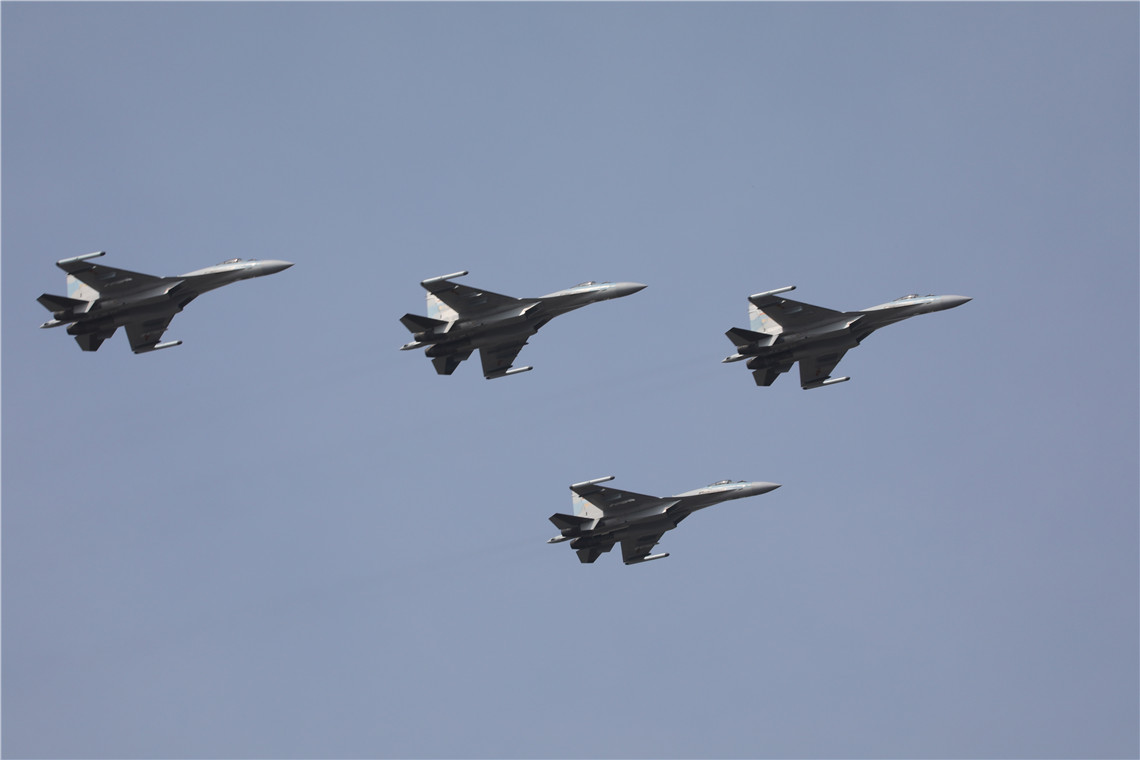airplane: (31, 248, 289, 361), (391, 273, 650, 384), (717, 288, 970, 392), (545, 478, 782, 567)
